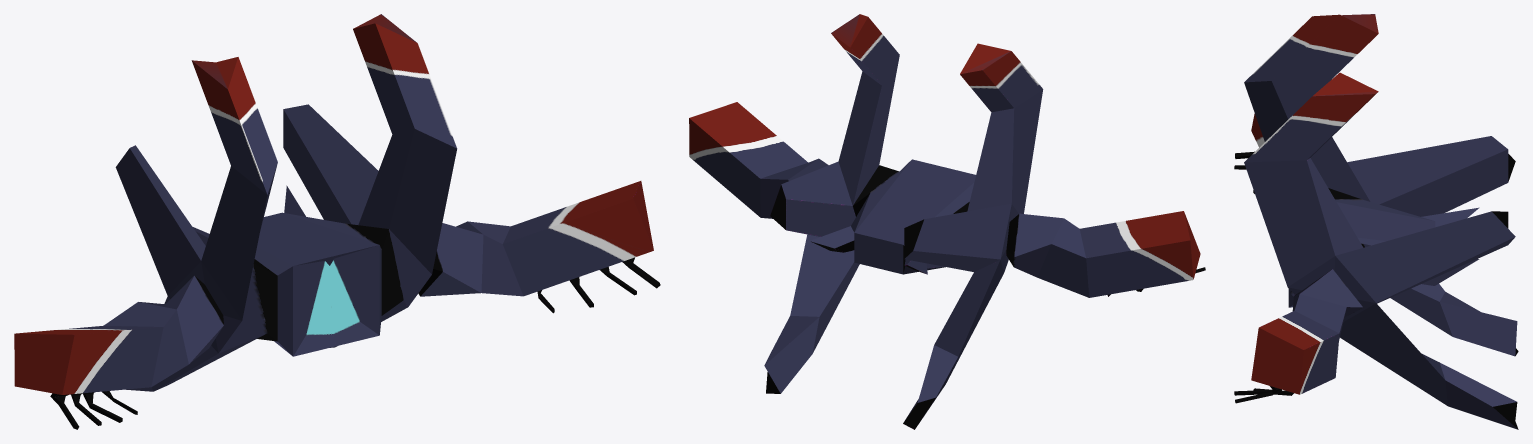
Rendered from lemechant.fbx.
3 renders of one model, left to right at view 1: azimuth 30°, elevation 25°; view 2: azimuth 150°, elevation 25°; view 3: azimuth 270°, elevation 25°, orthographic. The views are drawn at different scales.
Visible parts, largest first — view 1: Cube; view 2: Cube; view 3: Cube.
Part boxes in pixels (x1,y1,x2,y2): Cube: (14, 14, 660, 429); Cube: (689, 14, 1205, 429); Cube: (1234, 14, 1518, 429).
Bounding box in the file's own units: 1455 × 886 × 658.
